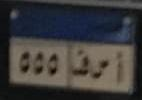5: (45, 46, 63, 77), (18, 48, 32, 82), (33, 49, 48, 77)
أ: (106, 51, 127, 87)
س: (91, 55, 110, 82)
ف: (69, 45, 90, 81)
